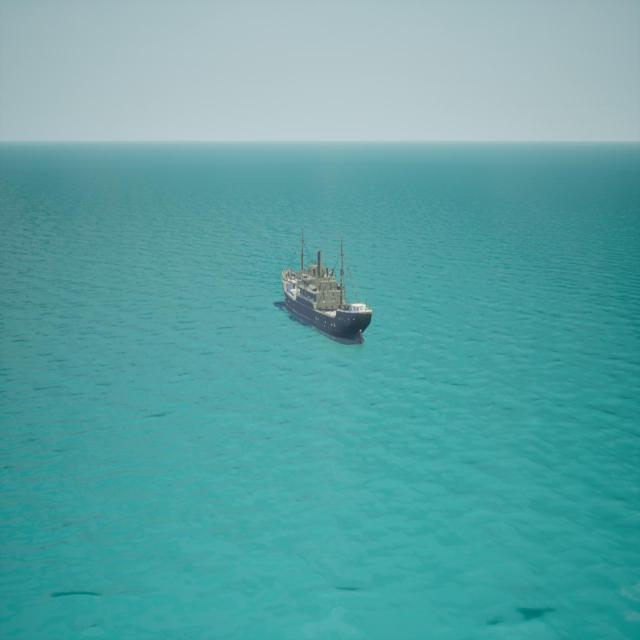fishing ship: (280, 230, 374, 346)
